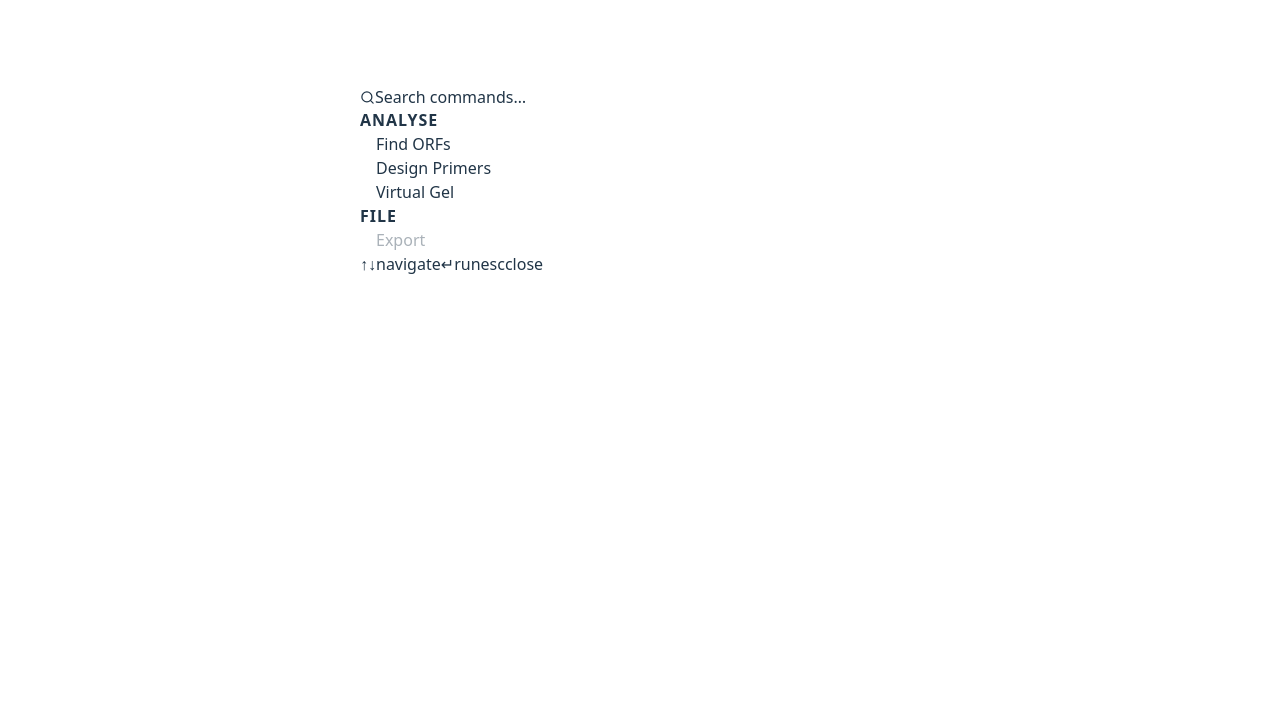
Test case: CommandPalette › shows an empty state when nothing matches
Step 1. Type "zzzz" into the dropdown → (648, 97), box [375,86,920,108]
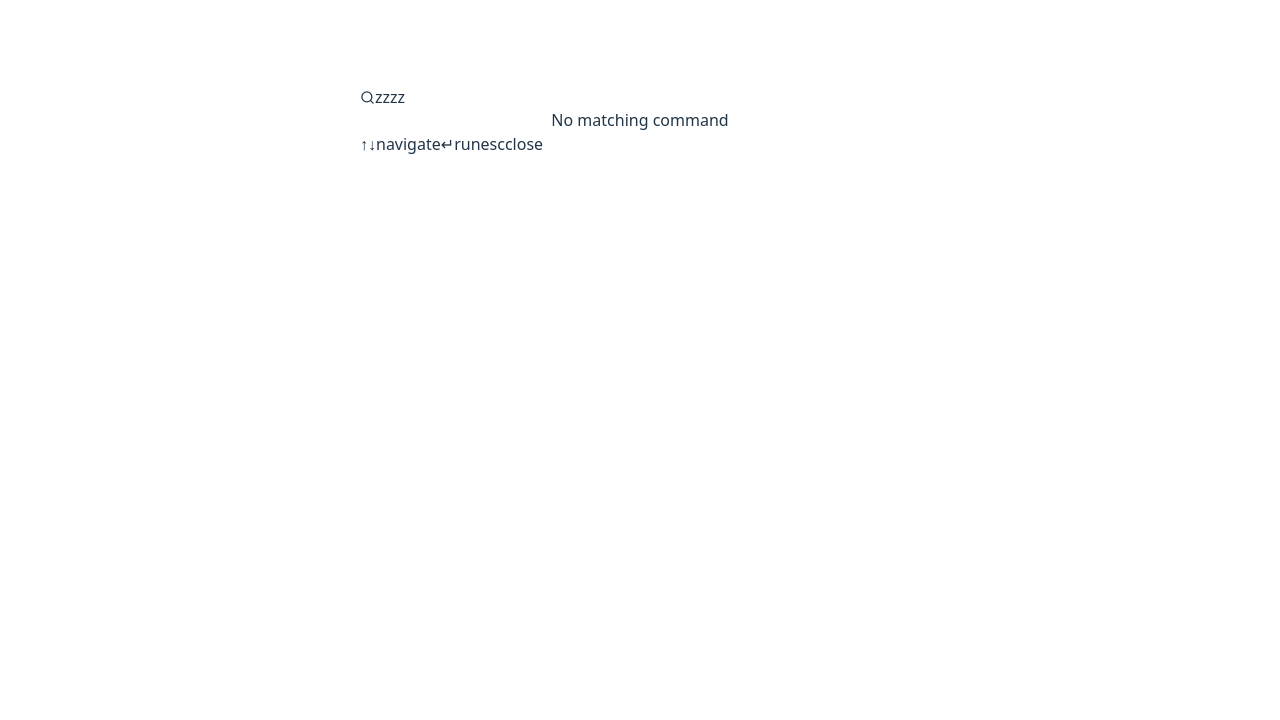
Expected: the text "No matching command" is shown, [551,109,729,131]
